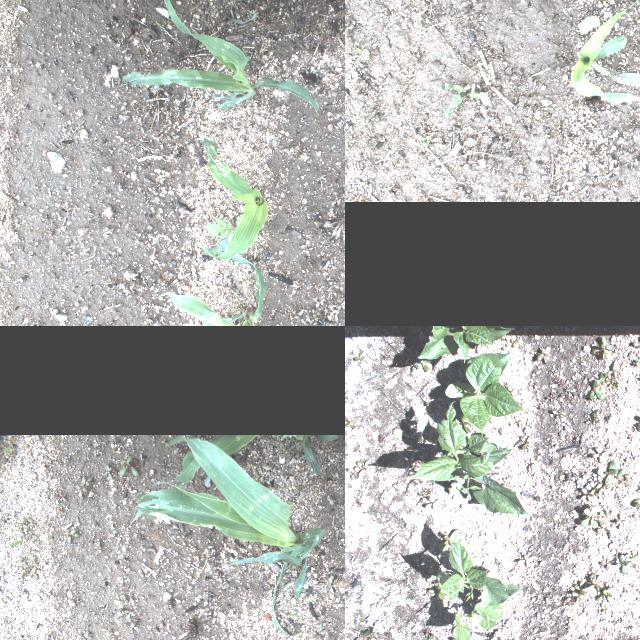crop: (130, 437, 324, 637), (122, 0, 318, 110), (404, 402, 530, 516), (155, 237, 267, 326), (150, 435, 338, 487), (192, 130, 266, 260), (571, 0, 640, 105), (444, 352, 524, 438), (439, 544, 521, 604), (416, 326, 520, 363), (450, 599, 502, 640)
weed: (442, 84, 486, 118), (206, 214, 246, 242), (596, 462, 628, 488), (434, 528, 460, 552), (116, 454, 140, 478), (592, 336, 614, 362), (590, 378, 608, 402), (581, 506, 599, 528), (590, 446, 608, 464), (614, 553, 628, 575), (570, 588, 586, 606), (356, 459, 372, 476), (596, 588, 612, 604), (414, 358, 432, 372), (586, 575, 600, 593), (534, 346, 548, 364), (354, 48, 370, 62), (415, 134, 431, 148), (66, 528, 80, 544), (598, 557, 614, 571), (432, 572, 443, 592), (460, 412, 470, 434), (516, 554, 534, 566), (596, 479, 608, 497), (606, 366, 624, 378), (352, 349, 364, 366), (74, 482, 86, 498), (589, 482, 601, 498), (518, 436, 530, 452), (359, 629, 376, 640), (596, 510, 614, 520), (594, 520, 606, 534), (579, 490, 593, 502), (503, 338, 519, 348), (616, 514, 626, 530), (630, 335, 640, 351), (345, 388, 354, 405), (94, 538, 102, 556), (122, 610, 136, 620), (118, 594, 128, 608), (17, 564, 27, 578), (423, 498, 437, 508), (552, 410, 566, 420), (102, 464, 110, 481), (632, 496, 640, 513), (15, 518, 28, 528), (2, 446, 14, 456), (80, 476, 92, 486), (25, 530, 37, 540), (20, 514, 32, 524), (562, 597, 574, 607), (590, 568, 600, 580), (345, 416, 355, 428), (348, 467, 358, 479), (40, 592, 54, 600), (27, 555, 35, 569), (368, 601, 382, 609), (29, 566, 36, 580), (600, 605, 608, 617), (22, 550, 36, 556), (630, 550, 636, 564), (595, 410, 605, 418), (18, 529, 27, 537), (59, 490, 66, 500), (0, 519, 8, 527), (110, 528, 116, 538), (288, 614, 298, 620), (53, 562, 59, 570), (42, 518, 50, 524), (634, 358, 640, 366), (18, 635, 27, 640), (160, 437, 166, 443), (308, 599, 314, 605), (62, 458, 66, 466), (318, 623, 322, 631), (35, 434, 39, 440), (327, 570, 333, 574), (200, 472, 206, 476), (638, 373, 640, 381)
